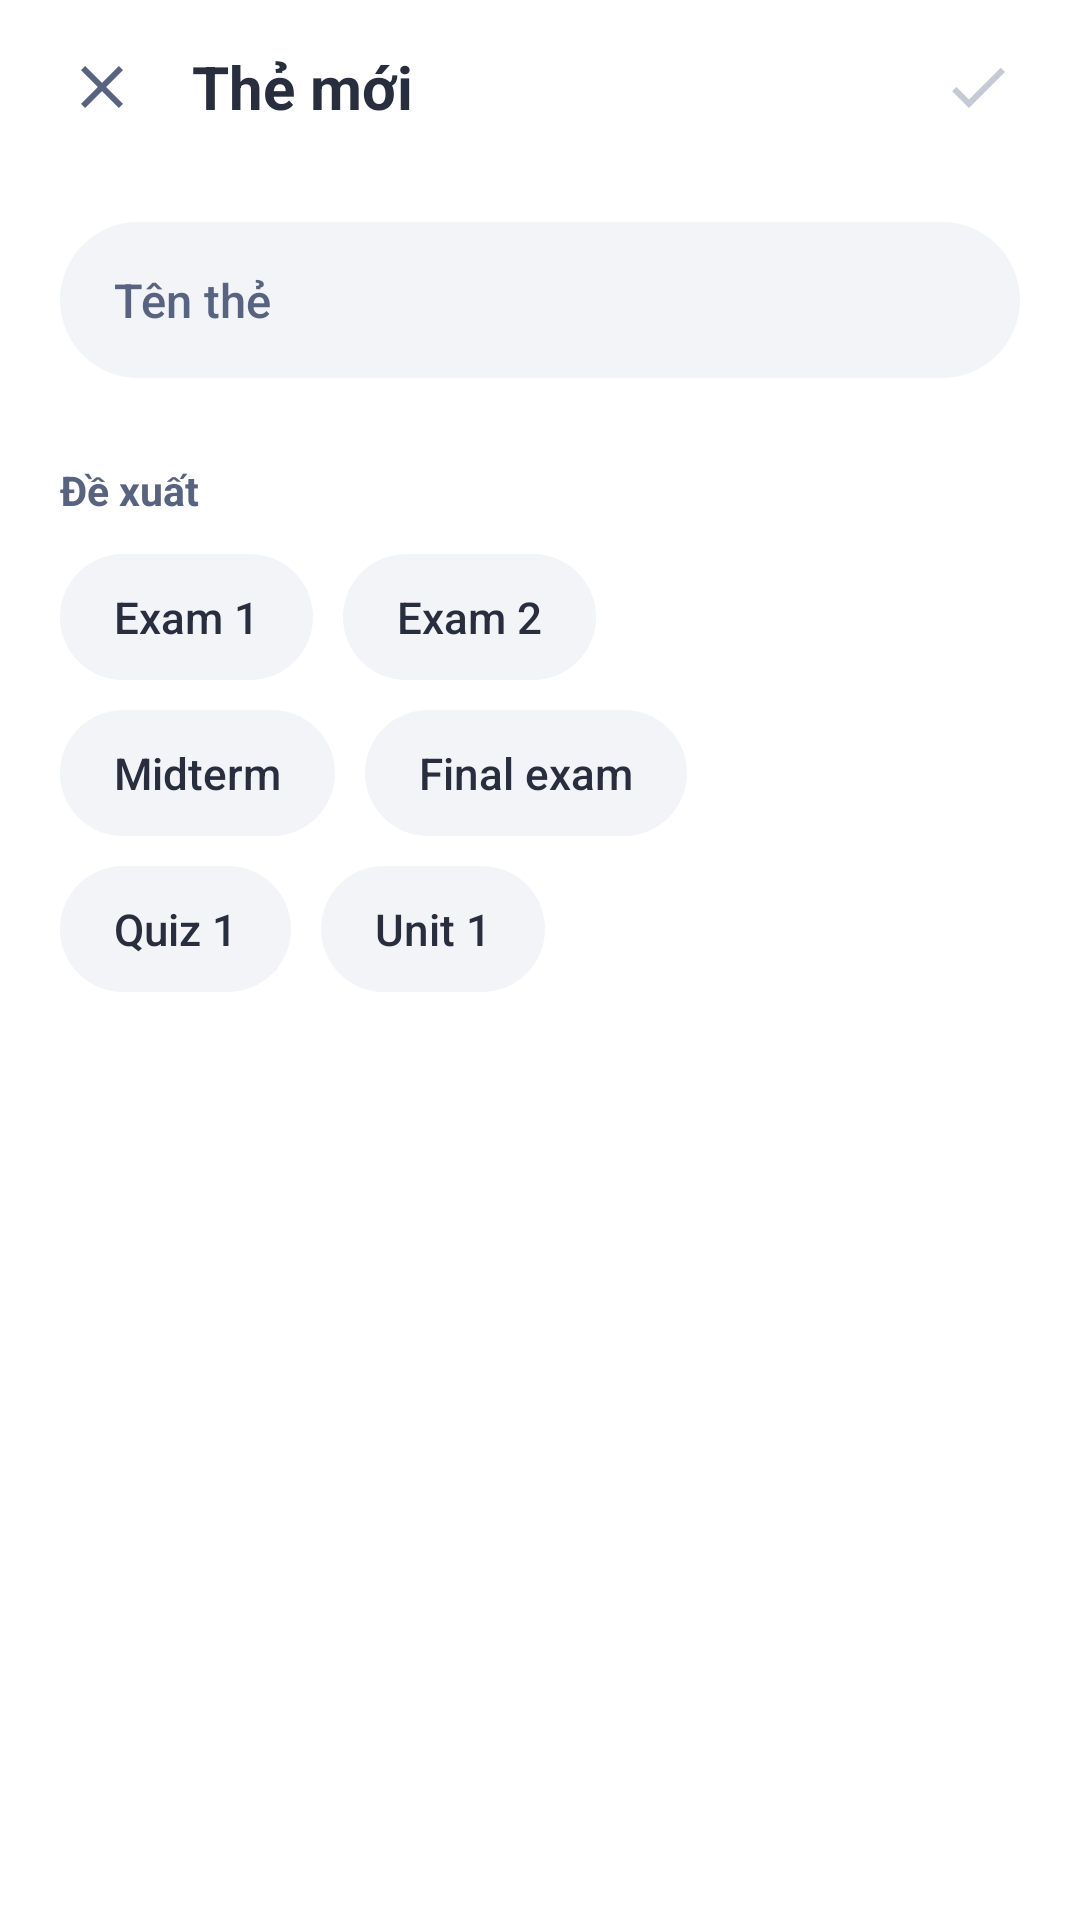

Named icons in this screenshot (1080 x 1920) and their bounding boxes, (x1, y1, x2, y2):
Lưu thẻ: (952, 68, 1005, 108)
Đóng: (81, 66, 123, 108)
